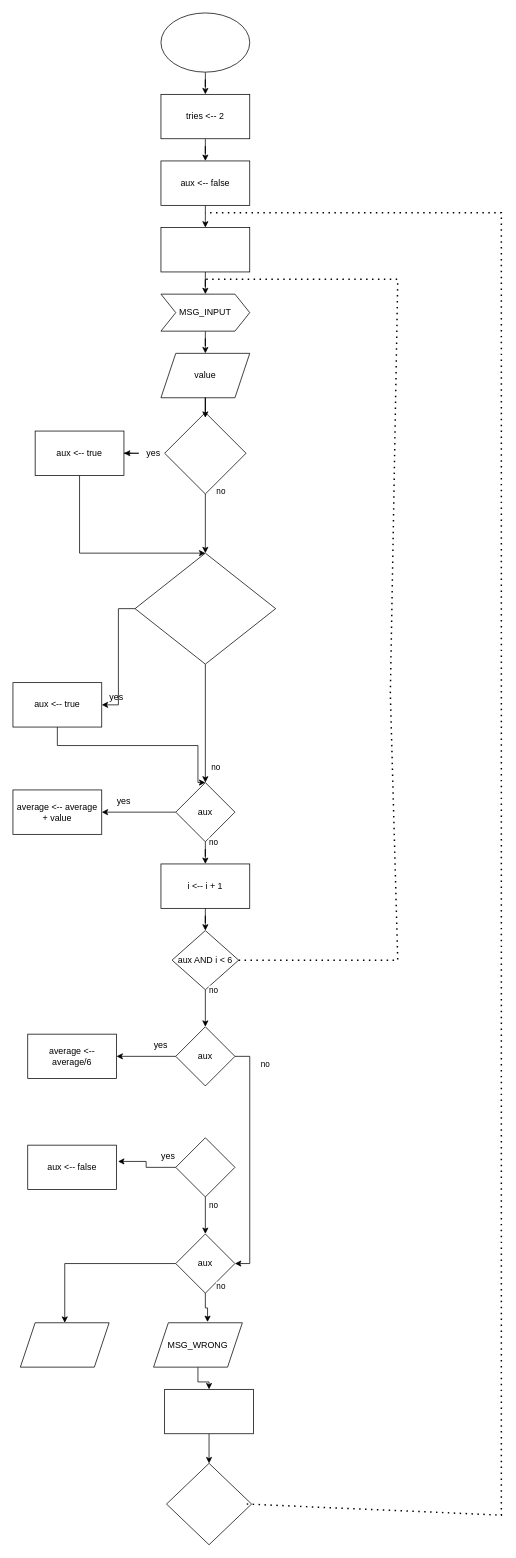
The diagram is 516 pixels wide and 1558 high, and some of its shapes have lost their labels. Each missing label, with the centre of its shape:
"!aux AND tries > 0" goes at point (209, 1504).
"average > 28" goes at point (205, 1167).
"i, average <-- 0 tempAnt <-- 25" goes at point (205, 249).
"MSG_OK" goes at point (64, 1344).
"START" goes at point (205, 42).
"tempAnt - values <= -10 AND tempAnt - values > 10" goes at point (205, 608).
"tries <-- tries - 1" goes at point (208, 1411).
"value <= 35 AND value >=15" goes at point (205, 453).
